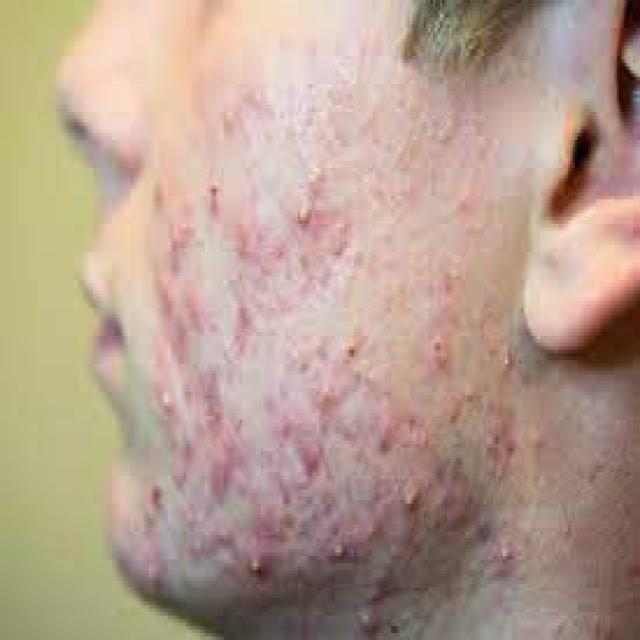Acne: (442, 468, 489, 539), (213, 420, 247, 501), (487, 399, 519, 479), (274, 394, 310, 448), (203, 367, 224, 438), (376, 388, 396, 455), (185, 281, 209, 334), (399, 417, 438, 449), (493, 532, 521, 576), (425, 322, 448, 371), (173, 216, 205, 250), (262, 238, 297, 269), (400, 476, 426, 517), (204, 165, 223, 221), (233, 301, 252, 357), (354, 605, 384, 640), (244, 545, 272, 582), (339, 331, 368, 364), (304, 158, 330, 192), (302, 438, 324, 477), (293, 194, 315, 232), (330, 218, 352, 256), (315, 377, 340, 410), (329, 530, 350, 568), (443, 387, 462, 428), (216, 517, 236, 554), (186, 528, 207, 562), (152, 174, 169, 212), (145, 484, 168, 510), (235, 219, 252, 253), (247, 85, 268, 111), (148, 558, 165, 590), (158, 389, 176, 418), (143, 500, 157, 537), (219, 105, 238, 130), (500, 346, 515, 376)
